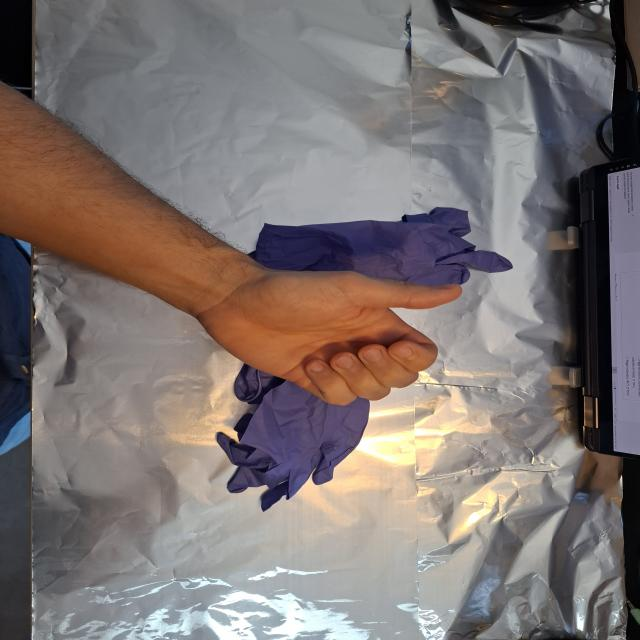glove_off: (194, 266, 466, 407)
